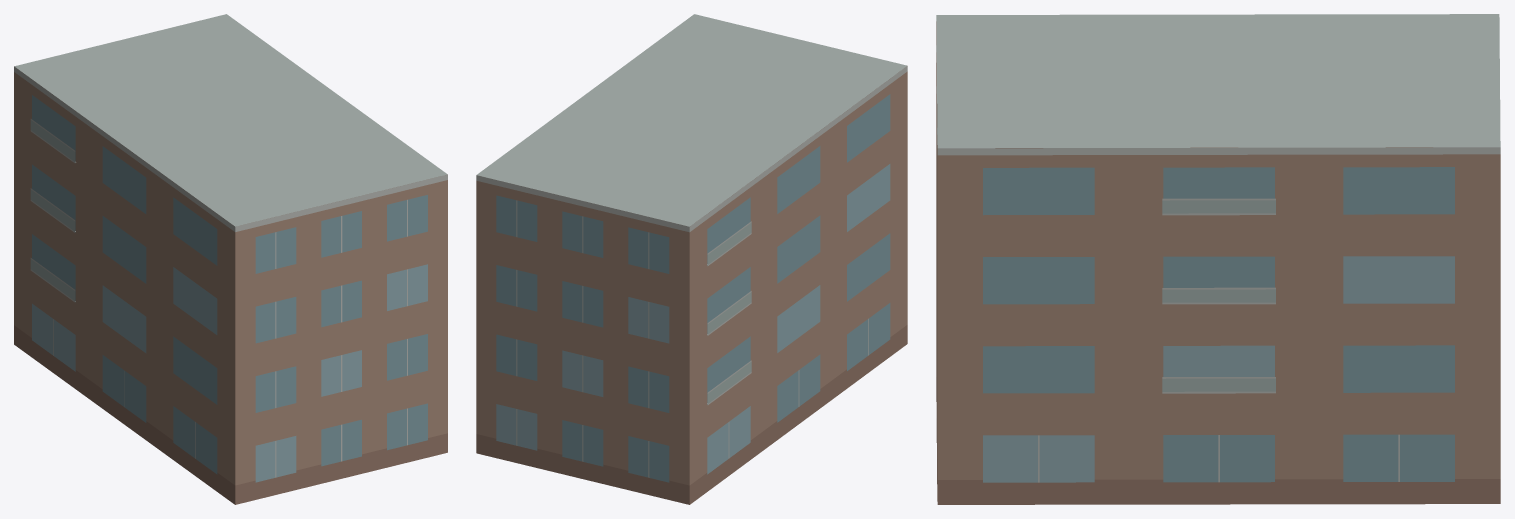
The model's file is residential-f01d8f78-28b9-409e-b35a-ee4018e32100.glb.
3 views of the same model, side by side, from view 1: azimuth 30°, elevation 25°; view 2: azimuth 150°, elevation 25°; view 3: azimuth 270°, elevation 25° (orthographic). The views are drawn at different scales.
Parts seen in each view (by area): view 1: residential-f01d8f78-28b9-409e-b35a-ee4018e32100.tmp; view 2: residential-f01d8f78-28b9-409e-b35a-ee4018e32100.tmp; view 3: residential-f01d8f78-28b9-409e-b35a-ee4018e32100.tmp.
Boxes of the visible parts, bbox=[...] form: residential-f01d8f78-28b9-409e-b35a-ee4018e32100.tmp: bbox=[14, 14, 447, 504]; residential-f01d8f78-28b9-409e-b35a-ee4018e32100.tmp: bbox=[476, 14, 907, 504]; residential-f01d8f78-28b9-409e-b35a-ee4018e32100.tmp: bbox=[936, 14, 1500, 504].
Size of the model in its own units: 9.89 by 12.2 by 17.5.
